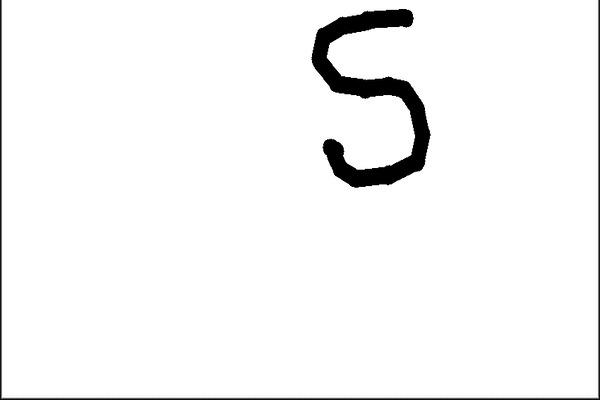S: (302, 0, 438, 204)
